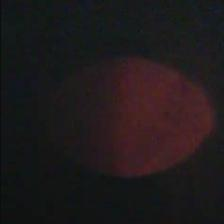fertile: (39, 53, 215, 180)
